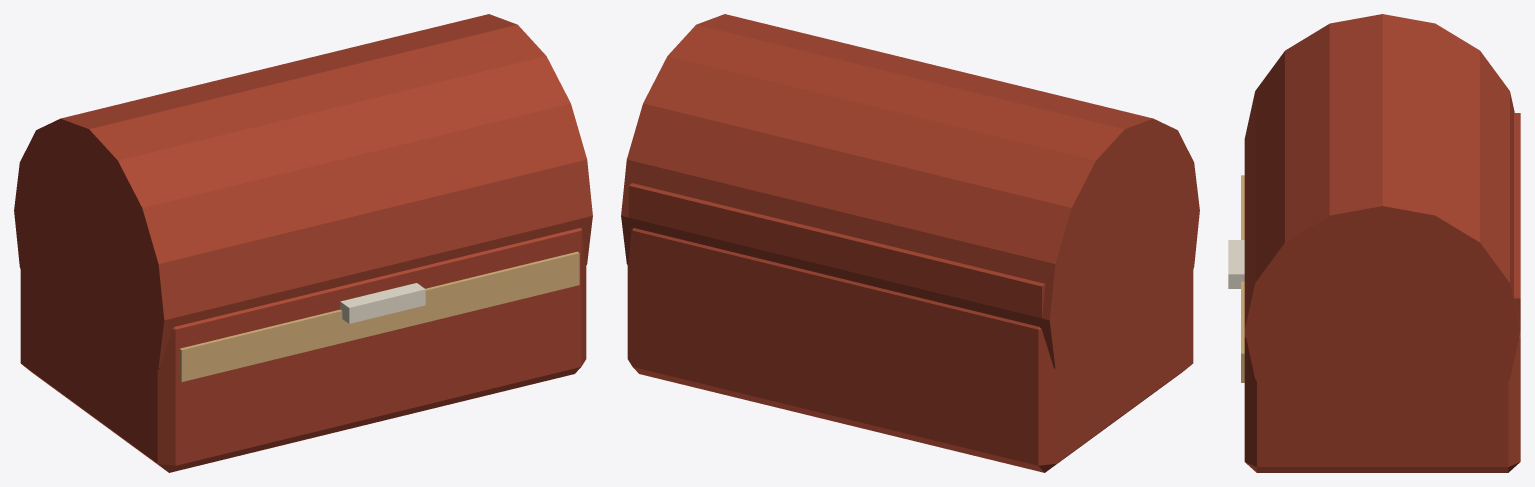
File: bread_box.fbx
3 renders of one model, left to right at view 1: azimuth 30°, elevation 25°; view 2: azimuth 150°, elevation 25°; view 3: azimuth 270°, elevation 25°, orthographic. The views are drawn at different scales.
Visible parts, largest first — view 1: bread_box; view 2: bread_box; view 3: bread_box.
Part boxes in pixels (<box>): bread_box: <box>14,14,592,472</box>; bread_box: <box>621,14,1199,472</box>; bread_box: <box>1228,14,1520,472</box>.
Size of the model in its own units: 0.56 by 0.37 by 0.36.
